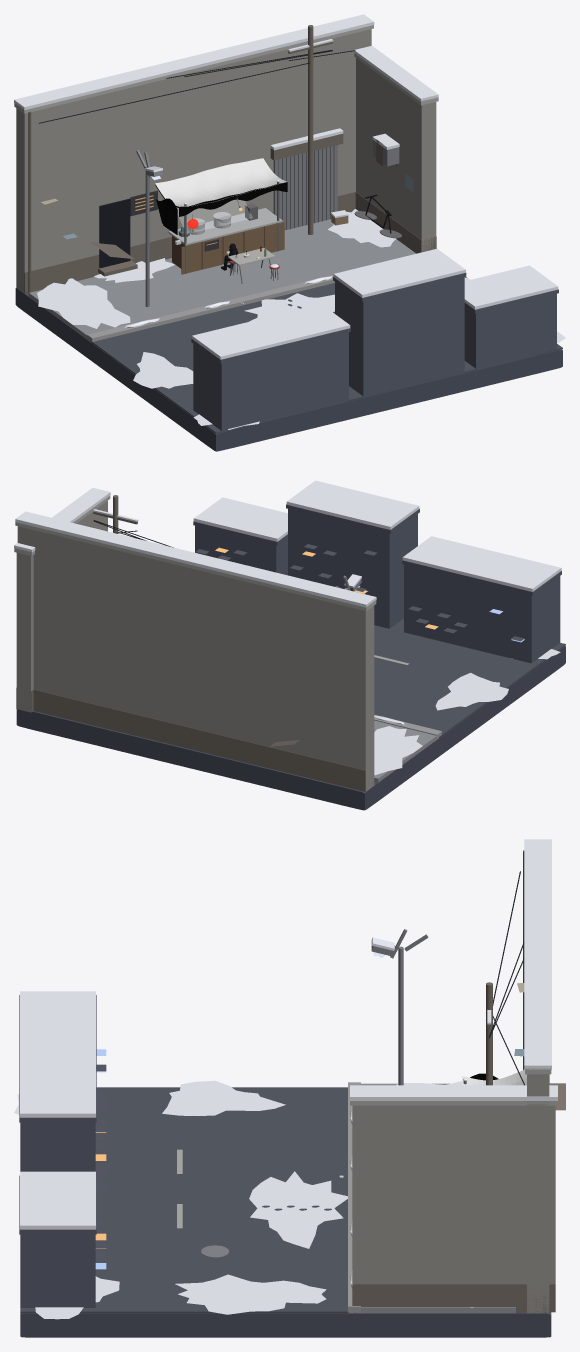
File: wonton-stall.glb
The picture shows the model from 3 angles, top to bottom: view 1: azimuth 30°, elevation 25°; view 2: azimuth 150°, elevation 25°; view 3: azimuth 270°, elevation 25°; orthographic projection. The views are drawn at different scales.
Visible parts, largest first — view 1: WS_WallBack, WS_Sidewalk, WS_far1, WS_far0, WS_Base, WS_WallSide, WS_Road, WS_far2, WS_capB_snow, WS_far0_snow, WS_tarpSnow, WS_far1_snow (+23 smaller); view 2: WS_WallBack, WS_Base, WS_far0, WS_Road, WS_far1, WS_WallBack_stain, WS_capB_snow, WS_far0_snow, WS_far1_snow, WS_WallSide, WS_far2_snow, WS_far2 (+8 smaller); view 3: WS_Road, WS_WallSide, WS_Base, WS_capB_snow, WS_far2, WS_far1_snow, WS_WallBack, WS_far2_snow, WS_WallSide_stain, WS_snowPath, WS_far0_snow, WS_snowR3 (+9 smaller).
Part boxes in pixels (<box>): WS_WallBack: <box>16,29,371,293</box>; WS_Sidewalk: <box>29,219,415,342</box>; WS_far1: <box>335,277,464,397</box>; WS_far0: <box>193,332,348,431</box>; WS_Base: <box>15,288,562,451</box>; WS_WallSide: <box>356,58,436,251</box>; WS_Road: <box>91,276,562,433</box>; WS_far2: <box>464,293,556,369</box>; WS_capB_snow: <box>14,14,374,110</box>; WS_far0_snow: <box>192,304,350,359</box>; WS_tarpSnow: <box>155,158,287,206</box>; WS_far1_snow: <box>333,249,465,297</box>; WS_WallBack: <box>17,526,374,791</box>; WS_Base: <box>16,646,565,810</box>; WS_far0: <box>404,564,560,663</box>; WS_Road: <box>374,618,565,737</box>; WS_far1: <box>288,509,417,628</box>; WS_WallBack_stain: <box>33,689,374,791</box>; WS_capB_snow: <box>15,511,376,607</box>; WS_far0_snow: <box>402,536,561,591</box>; WS_far1_snow: <box>286,480,419,529</box>; WS_WallSide: <box>16,501,107,712</box>; WS_far2_snow: <box>193,497,287,541</box>; WS_far2: <box>195,525,287,575</box>; WS_Road: <box>20,1087,354,1313</box>; WS_WallSide: <box>352,1105,555,1284</box>; WS_Base: <box>20,1312,551,1337</box>; WS_capB_snow: <box>524,839,551,1069</box>; WS_far2: <box>20,1234,95,1307</box>; WS_far1_snow: <box>20,1046,95,1117</box>; WS_WallBack: <box>527,1074,549,1313</box>; WS_far2_snow: <box>20,1171,95,1229</box>; WS_WallSide_stain: <box>352,1284,555,1312</box>; WS_snowPath: <box>249,1171,347,1248</box>; WS_far0_snow: <box>20,991,95,1046</box>; WS_snowR3: <box>175,1274,326,1314</box>.
Size of the model in its own units: 12.75 by 7.61 by 12.48.
Materials: 39 (1 with a texture image).
